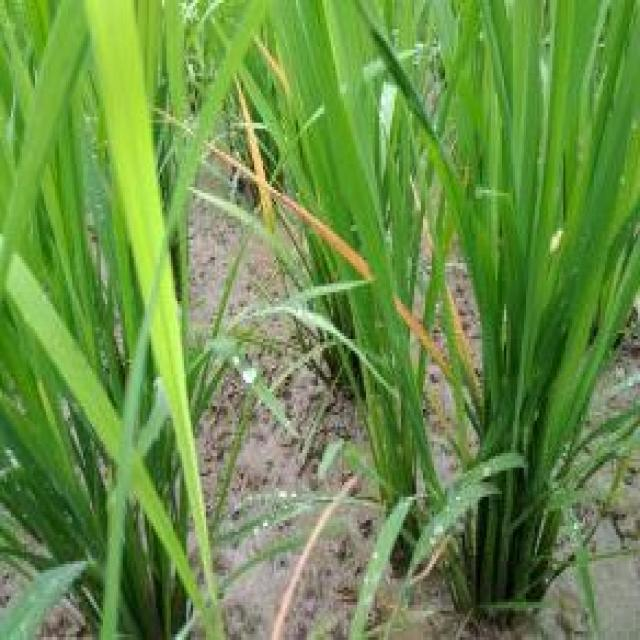Rice Tungro: (233, 107, 276, 220)
